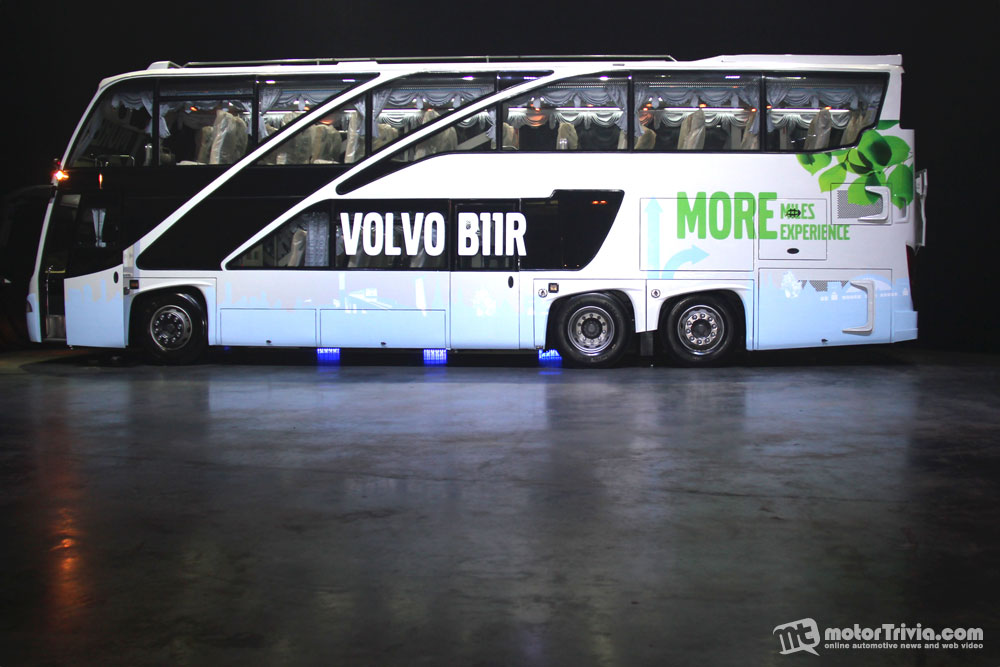bus: (21, 45, 920, 369)
